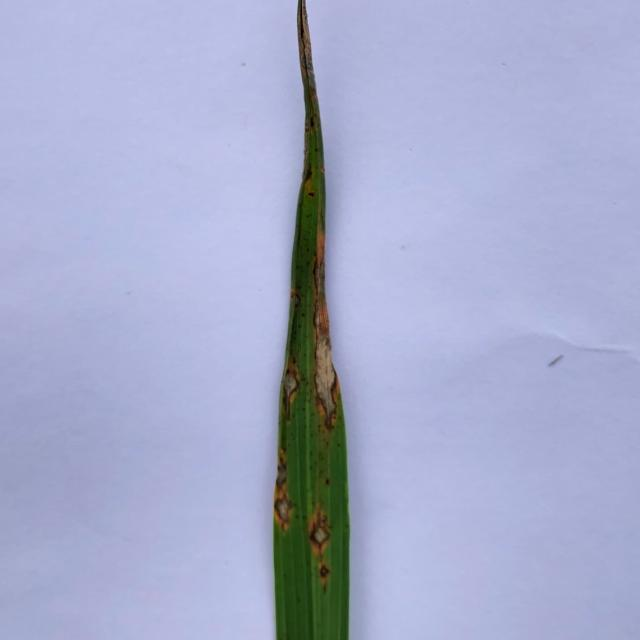leaf blast: (311, 255, 346, 435), (306, 513, 336, 556), (272, 488, 296, 530), (282, 368, 302, 401), (315, 562, 334, 582)
